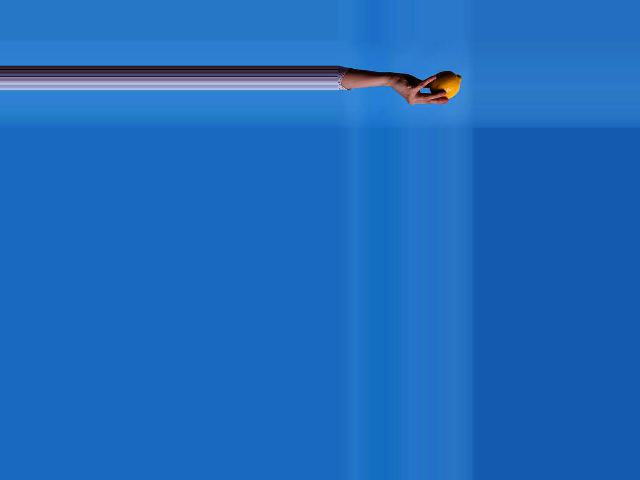lemon: (418, 69, 464, 120)
